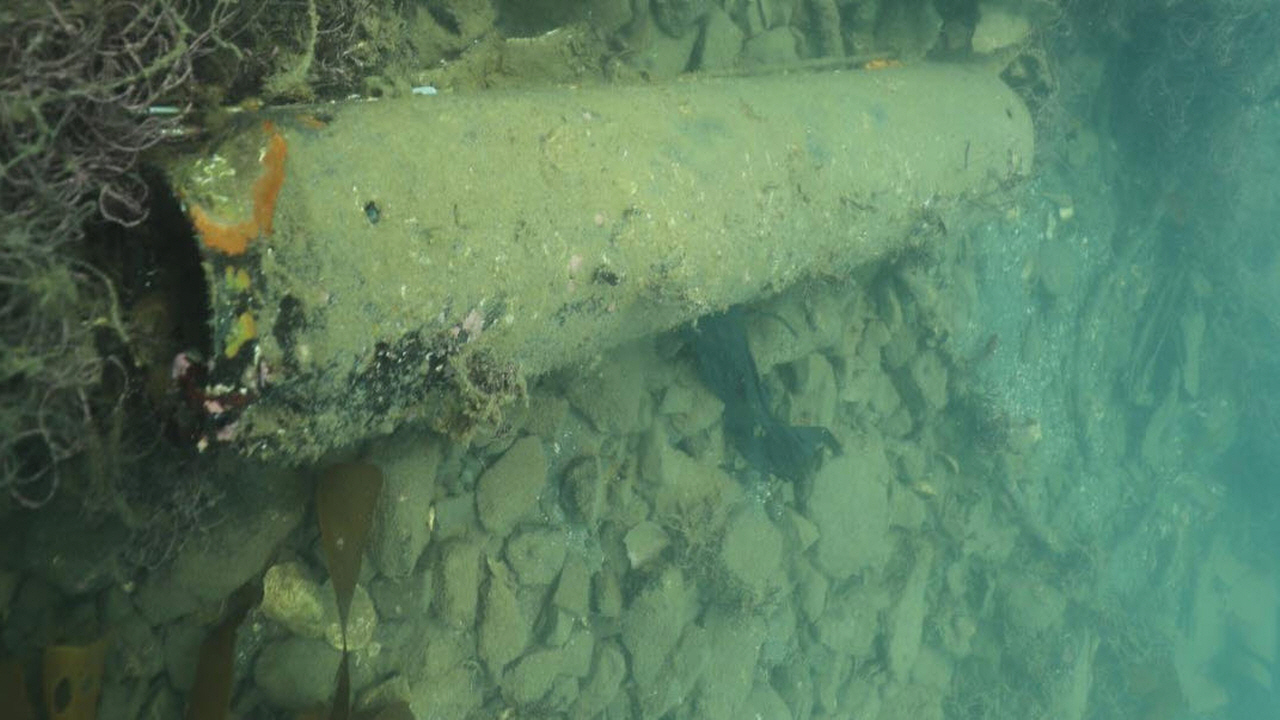eel fish trap: (145, 58, 1037, 461)
